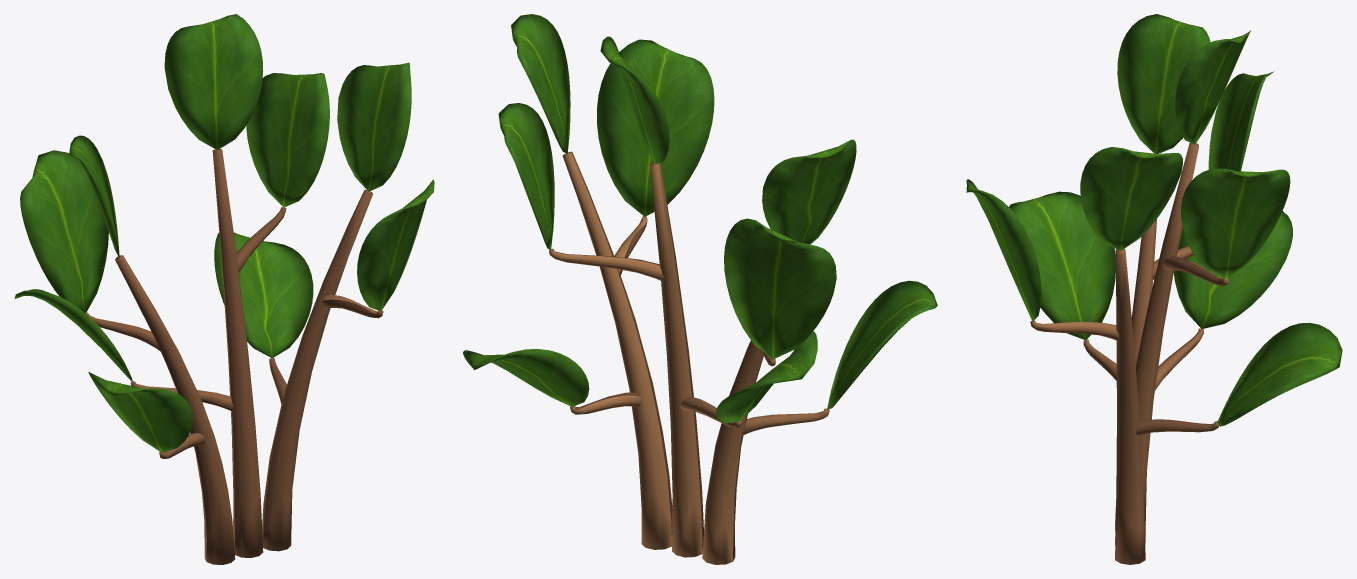
Rendered from NP_Blueberry_Young_LOD1.fbx.
3 renders of one model, left to right at view 1: azimuth 30°, elevation 25°; view 2: azimuth 150°, elevation 25°; view 3: azimuth 270°, elevation 25°, orthographic. The views are drawn at different scales.
Parts seen in each view (by area): view 1: NP_Blueberry_Young; view 2: NP_Blueberry_Young; view 3: NP_Blueberry_Young.
Part boxes in pixels (box(x1,y1,x2,y2)): NP_Blueberry_Young: box(14, 14, 434, 564); NP_Blueberry_Young: box(463, 14, 937, 564); NP_Blueberry_Young: box(966, 14, 1342, 564).
Size of the model in its own units: 40.96 by 55.64 by 36.32.
